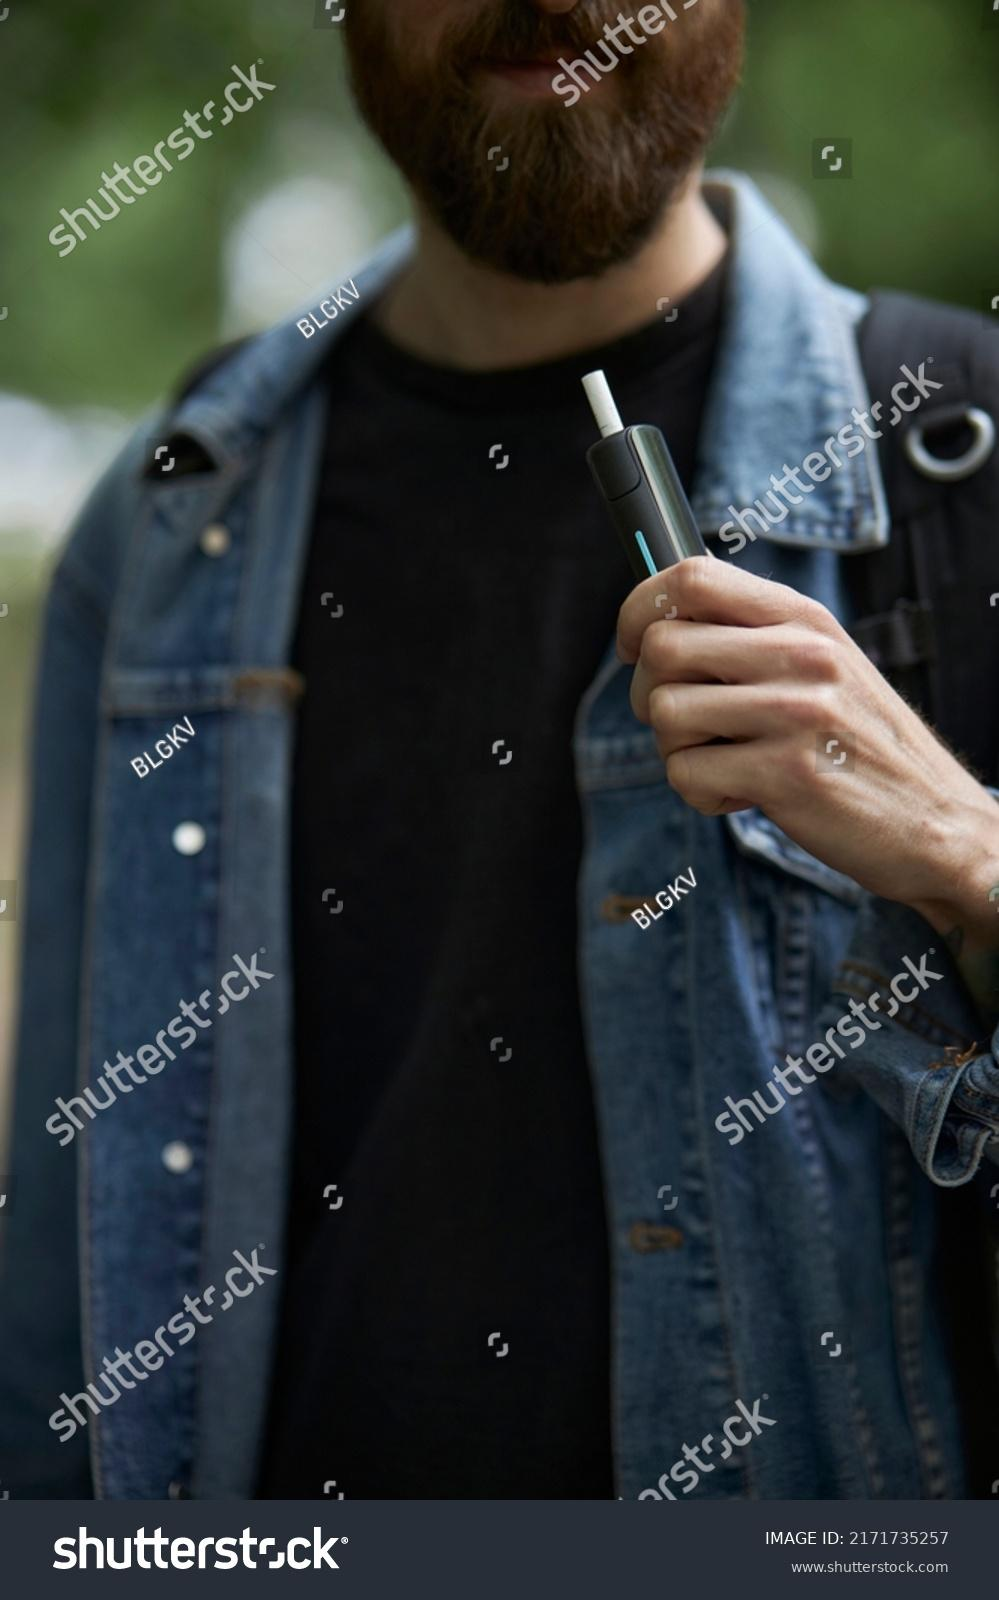iqos: (584, 369, 709, 581)
